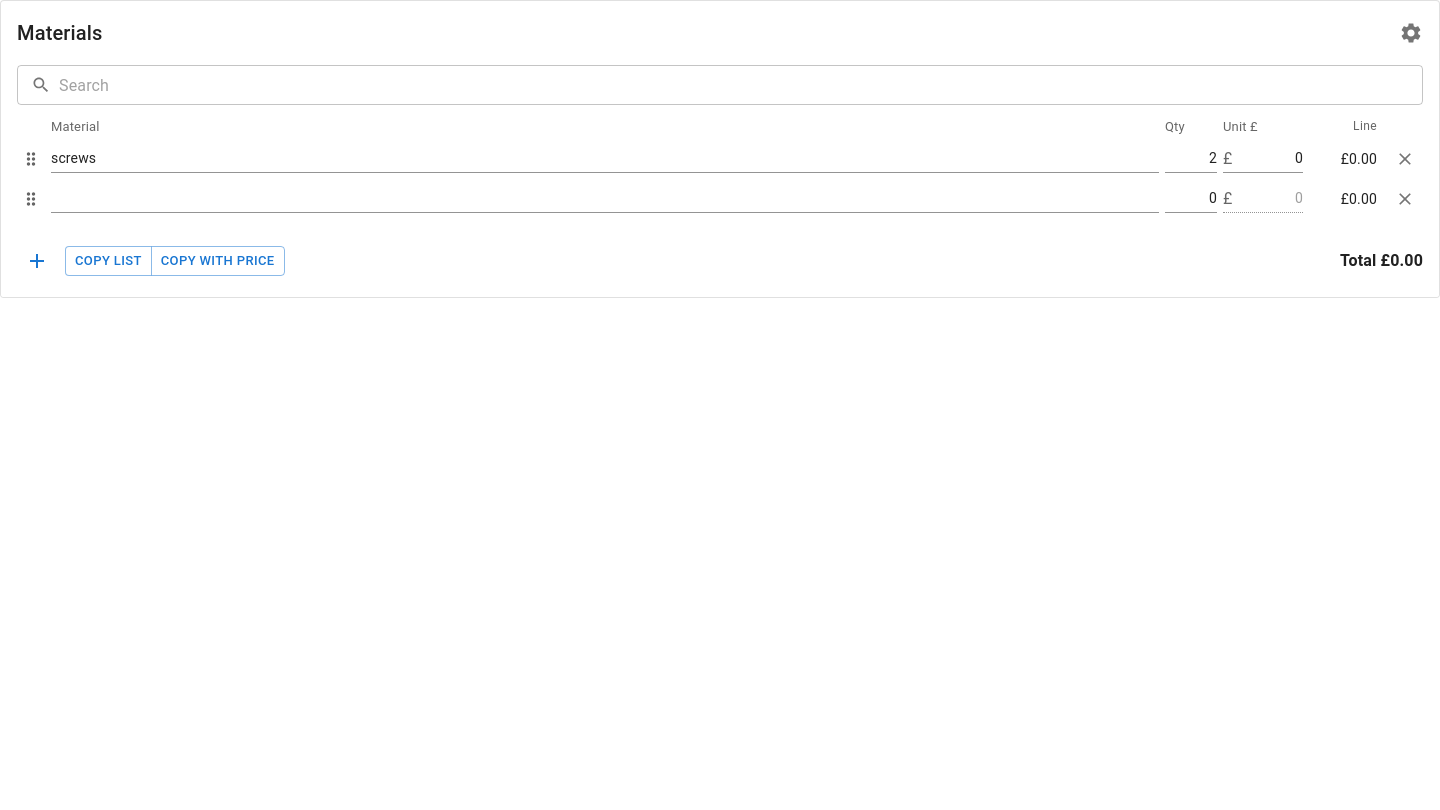
it: merging a duplicate › reports the merge, which the toast never used to do
This screenshot has width=1440, height=810.
Type "screws" into the 2nd dropdown named "Material name" at (605, 198), box [51,184,1159,212]
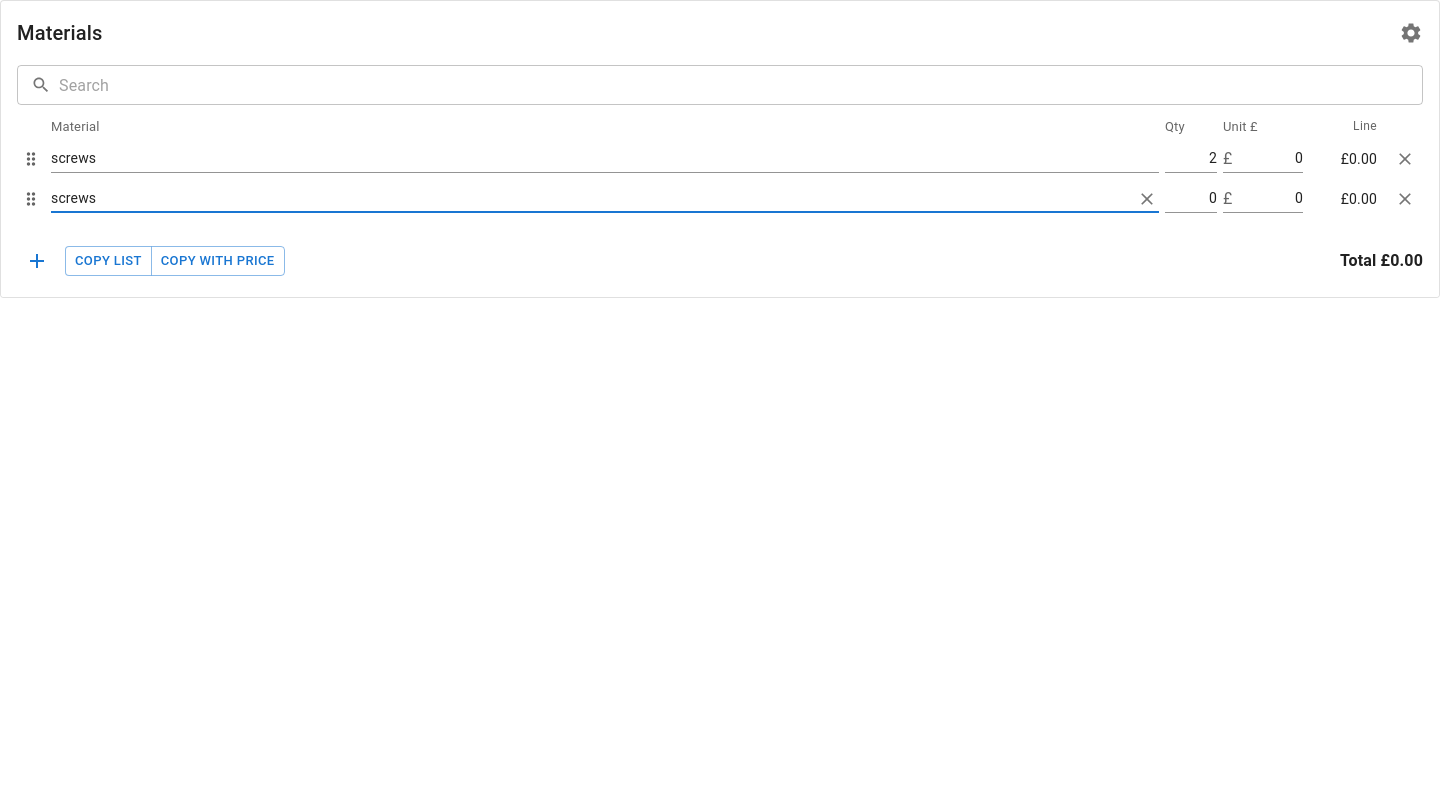
Press Tab
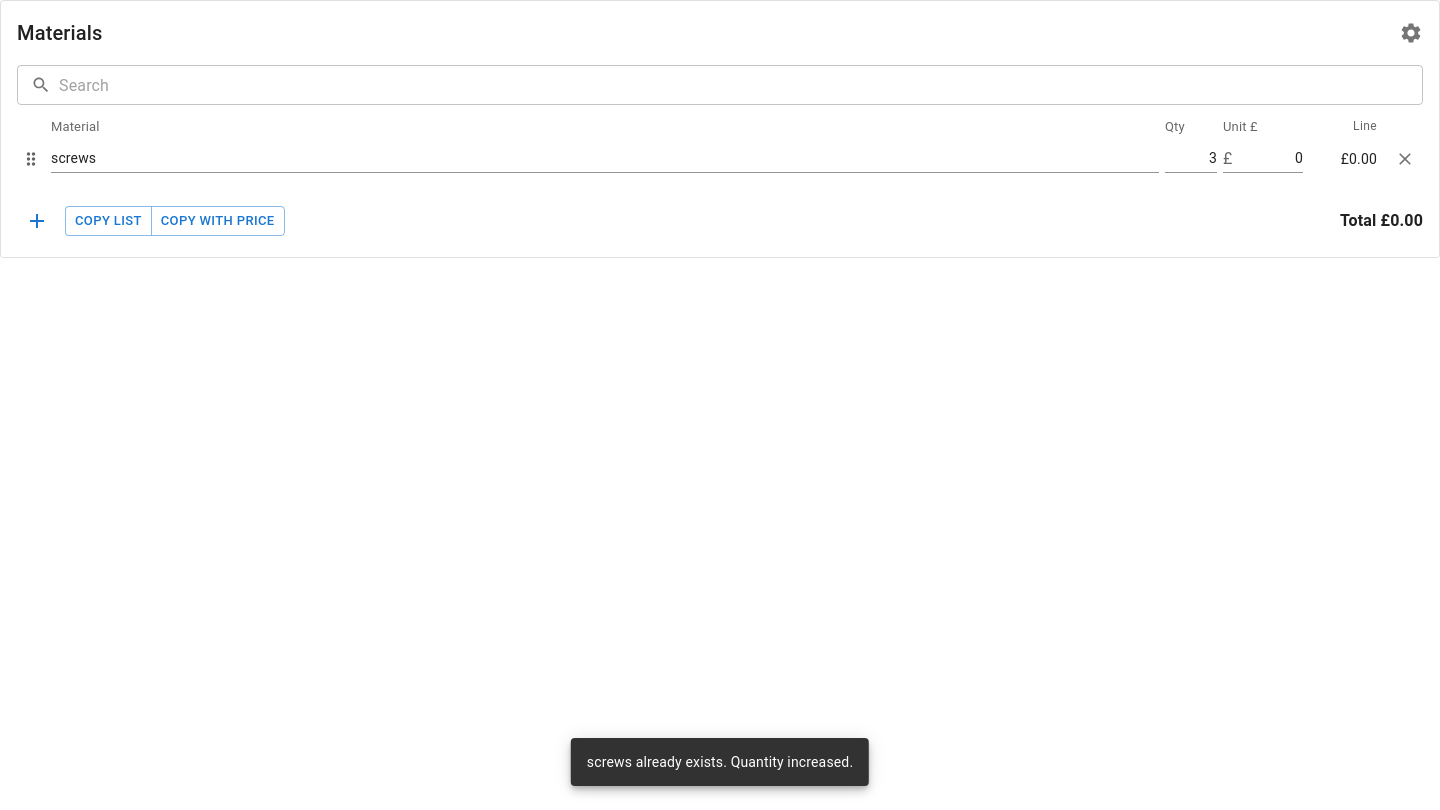
expect the text "screws already exists. Quantity increased." is shown: met, box [587,754,853,770]
